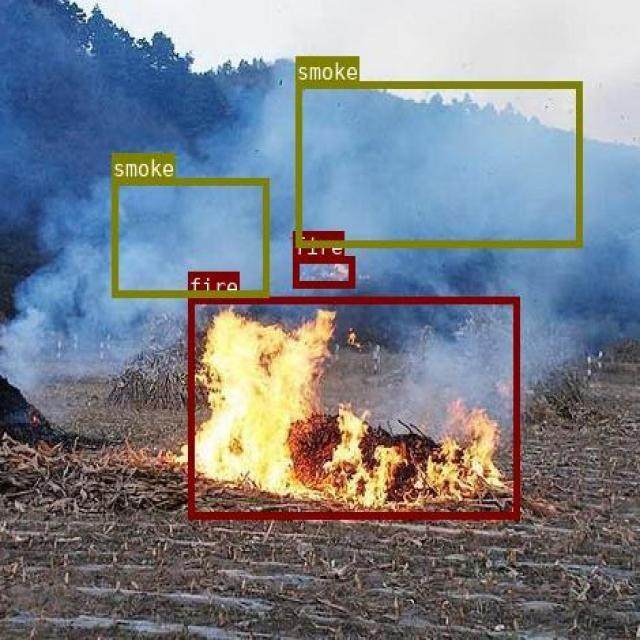fire: (188, 296, 518, 517), (293, 254, 354, 287)
smoke: (295, 81, 581, 246), (112, 178, 268, 296)
